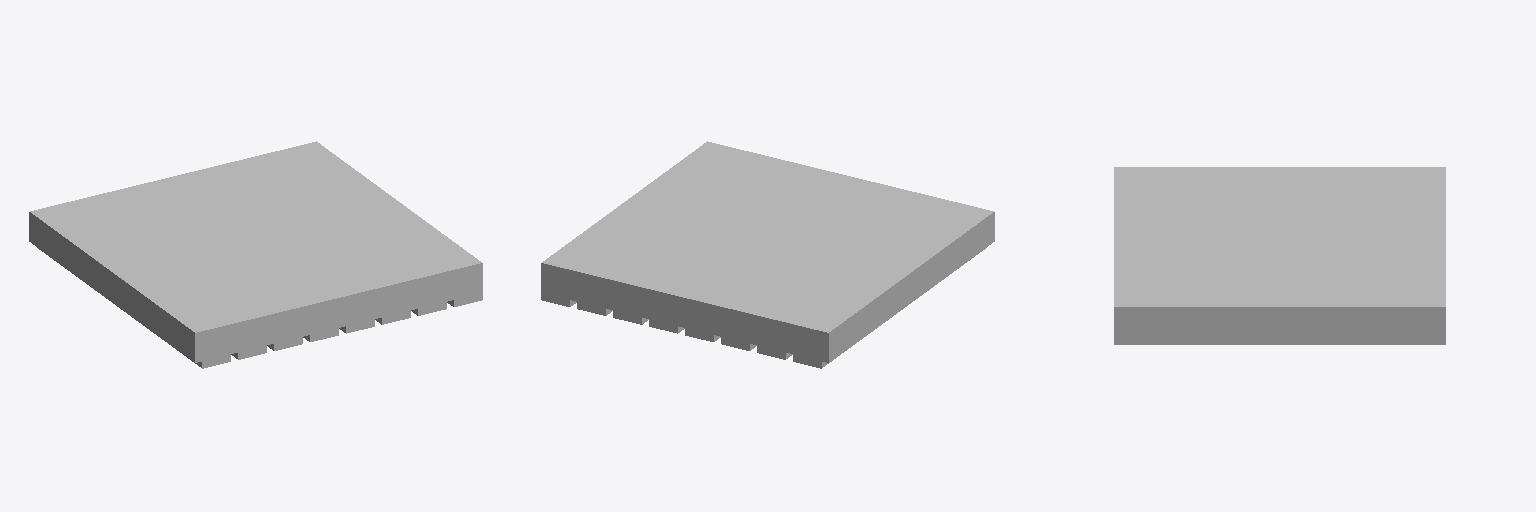
File: ceiling.obj
3 renders of one model, left to right at view 1: azimuth 30°, elevation 25°; view 2: azimuth 150°, elevation 25°; view 3: azimuth 270°, elevation 25°, orthographic.
Visible parts, largest first — view 1: object 1; view 2: object 1; view 3: object 1.
Boxes of the visible parts, x1=… form: object 1: x1=29, y1=141, x2=482, y2=368; object 1: x1=541, y1=141, x2=994, y2=368; object 1: x1=1114, y1=167, x2=1445, y2=344.
Bounding box in the file's own units: 4 × 0.5 × 4.